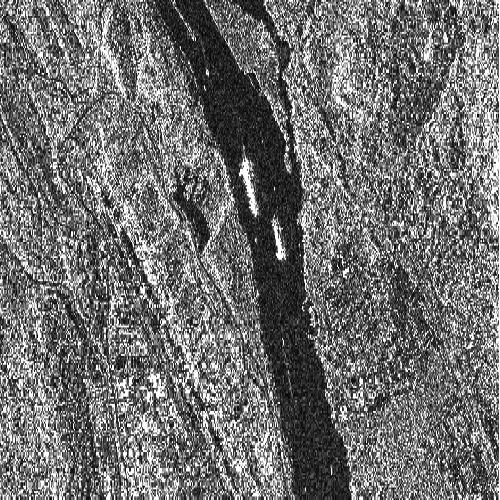ship: (238, 151, 260, 217), (272, 215, 286, 261)
